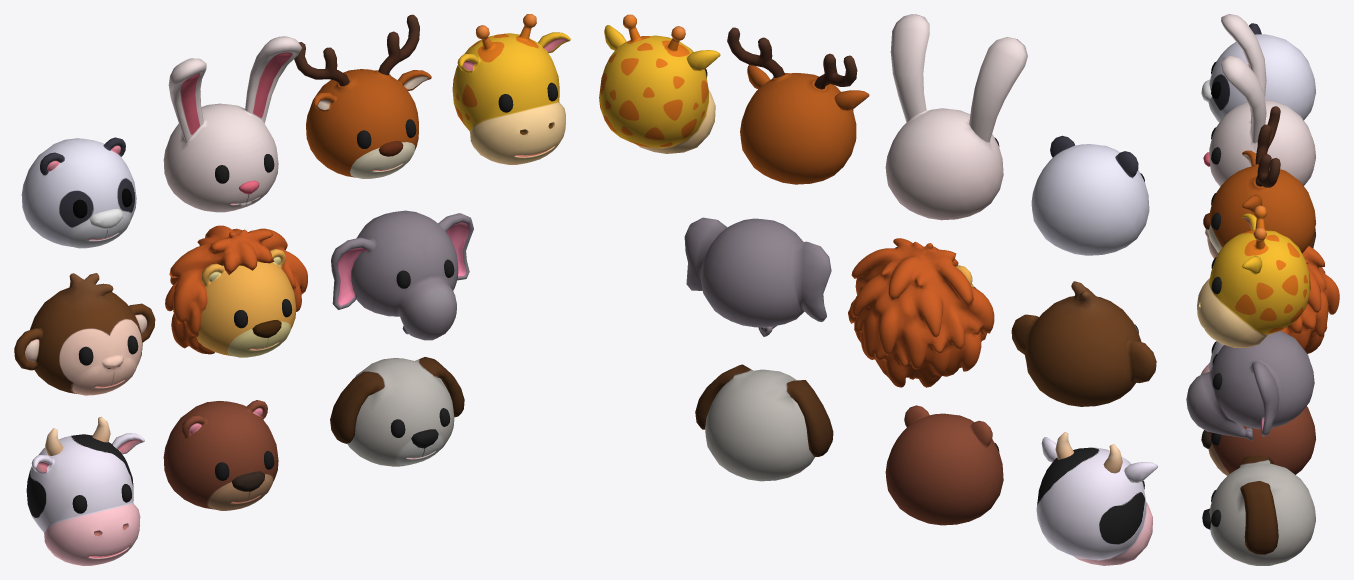
The model's file is ANIMAL HEAD .fbx.
3 views of the same model, side by side, from view 1: azimuth 30°, elevation 25°; view 2: azimuth 150°, elevation 25°; view 3: azimuth 270°, elevation 25° (orthographic). The views are drawn at different scales.
Visible parts, largest first — view 1: LionHead_LionHead_03_0_1333, RabbitHead_RabbitHead_0_1348, ElephantHead_ElephantHead_0_1326, GiraffeHead_GiraffeHead_01_0_1328, CowHead_CowHead_01_0_1314, DeerHead_DeerHead_01_0_1318, MonkeyHead_MonkeyHead_01_0_1335, DogHead_DogHead02_0_1325, BearHead_BearHead_02_0_1313, PandaHead_PandaHead_01_0_1338; view 2: RabbitHead_RabbitHead_0_1348, LionHead_LionHead_03_0_1333, DeerHead_DeerHead_01_0_1318, ElephantHead_ElephantHead_0_1326, GiraffeHead_GiraffeHead_01_0_1328, DogHead_DogHead02_0_1325, CowHead_CowHead_01_0_1314, MonkeyHead_MonkeyHead_01_0_1335, BearHead_BearHead_02_0_1313, PandaHead_PandaHead_01_0_1338; view 3: GiraffeHead_GiraffeHead_01_0_1328, ElephantHead_ElephantHead_0_1326, DogHead_DogHead02_0_1325, RabbitHead_RabbitHead_0_1348, DeerHead_DeerHead_01_0_1318, PandaHead_PandaHead_01_0_1338, BearHead_BearHead_02_0_1313, LionHead_LionHead_03_0_1333, CowHead_CowHead_01_0_1314, MonkeyHead_MonkeyHead_01_0_1335.
Part boxes in pixels (x1=…): LionHead_LionHead_03_0_1333: x1=165, y1=225, x2=307, y2=357; RabbitHead_RabbitHead_0_1348: x1=163, y1=36, x2=301, y2=212; ElephantHead_ElephantHead_0_1326: x1=331, y1=210, x2=473, y2=340; GiraffeHead_GiraffeHead_01_0_1328: x1=452, y1=14, x2=570, y2=164; CowHead_CowHead_01_0_1314: x1=26, y1=416, x2=144, y2=565; DeerHead_DeerHead_01_0_1318: x1=294, y1=14, x2=431, y2=178; MonkeyHead_MonkeyHead_01_0_1335: x1=14, y1=273, x2=155, y2=395; DogHead_DogHead02_0_1325: x1=330, y1=357, x2=464, y2=466; BearHead_BearHead_02_0_1313: x1=163, y1=400, x2=278, y2=510; PandaHead_PandaHead_01_0_1338: x1=21, y1=137, x2=136, y2=248; RabbitHead_RabbitHead_0_1348: x1=885, y1=14, x2=1027, y2=220; LionHead_LionHead_03_0_1333: x1=848, y1=238, x2=994, y2=387; DeerHead_DeerHead_01_0_1318: x1=727, y1=27, x2=869, y2=184; ElephantHead_ElephantHead_0_1326: x1=684, y1=217, x2=831, y2=336; GiraffeHead_GiraffeHead_01_0_1328: x1=599, y1=14, x2=720, y2=153; DogHead_DogHead02_0_1325: x1=695, y1=364, x2=833, y2=481; CowHead_CowHead_01_0_1314: x1=1036, y1=432, x2=1157, y2=565; MonkeyHead_MonkeyHead_01_0_1335: x1=1011, y1=281, x2=1156, y2=406; BearHead_BearHead_02_0_1313: x1=885, y1=405, x2=1003, y2=525; PandaHead_PandaHead_01_0_1338: x1=1031, y1=135, x2=1149, y2=255; GiraffeHead_GiraffeHead_01_0_1328: x1=1197, y1=205, x2=1310, y2=347; ElephantHead_ElephantHead_0_1326: x1=1186, y1=331, x2=1314, y2=440; DogHead_DogHead02_0_1325: x1=1202, y1=455, x2=1315, y2=565; RabbitHead_RabbitHead_0_1348: x1=1203, y1=14, x2=1315, y2=186; DeerHead_DeerHead_01_0_1318: x1=1203, y1=106, x2=1315, y2=253; PandaHead_PandaHead_01_0_1338: x1=1208, y1=23, x2=1315, y2=122; BearHead_BearHead_02_0_1313: x1=1201, y1=406, x2=1315, y2=475; LionHead_LionHead_03_0_1333: x1=1281, y1=246, x2=1339, y2=353; CowHead_CowHead_01_0_1314: x1=1200, y1=341, x2=1309, y2=374; MonkeyHead_MonkeyHead_01_0_1335: x1=1205, y1=228, x2=1315, y2=258.
Size of the model in its own units: 23050 by 19408 by 5928.
